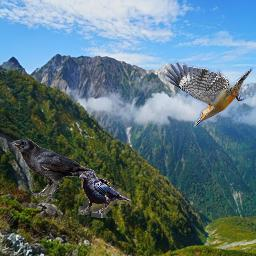Crow: (12, 138, 101, 203), (78, 171, 131, 218)
Woodpecker: (162, 61, 253, 128)
